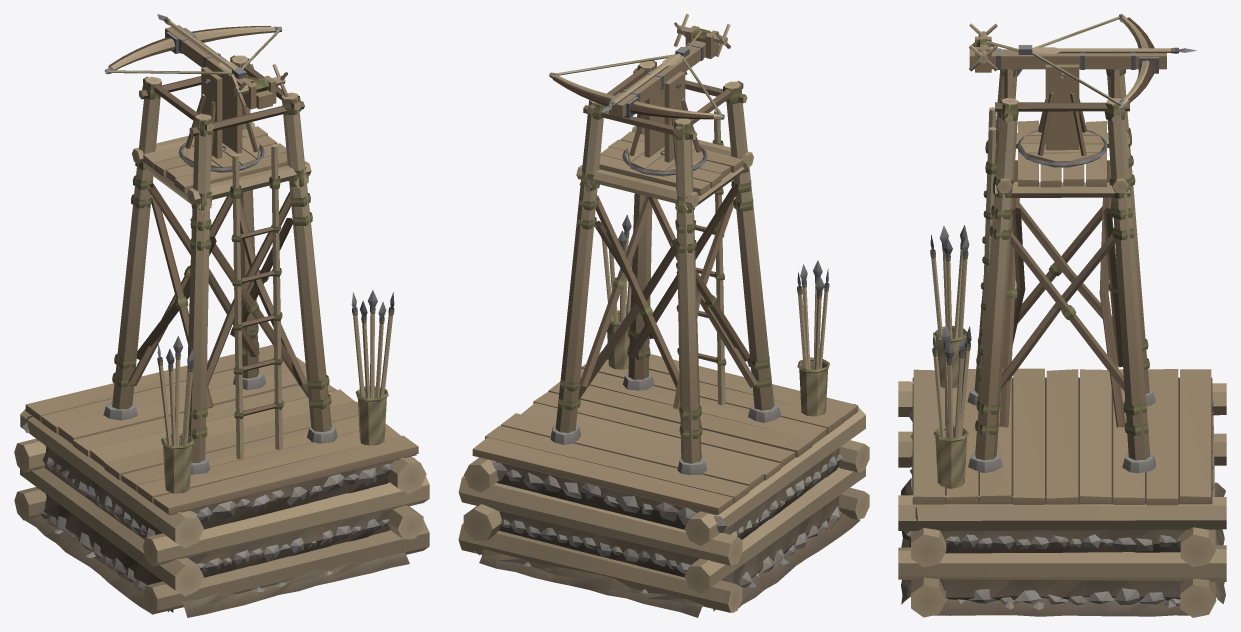
The model's file is bow_tower_ballista_a.glb.
3 renders of one model, left to right at view 1: azimuth 30°, elevation 25°; view 2: azimuth 150°, elevation 25°; view 3: azimuth 270°, elevation 25°, orthographic. The views are drawn at different scales.
Visible parts, largest first — view 1: Base, Turn, Store3, Store2; view 2: Base, Turn, Store2, Store3; view 3: Base, Turn, Store3, Store2, Bolt.
Part boxes in pixels (x1,y1,x2,y2): Base: [14, 55, 429, 617]; Turn: [104, 25, 288, 172]; Store3: [351, 290, 394, 445]; Store2: [157, 336, 194, 493]; Base: [458, 60, 869, 617]; Turn: [549, 14, 730, 176]; Store2: [797, 260, 829, 416]; Store3: [601, 214, 633, 369]; Base: [898, 69, 1226, 617]; Turn: [969, 14, 1166, 167]; Store3: [932, 325, 971, 488]; Store2: [930, 225, 969, 388]; Bolt: [1032, 47, 1196, 53].
Bounding box in the file's own units: 1.95 × 3.37 × 1.95.
